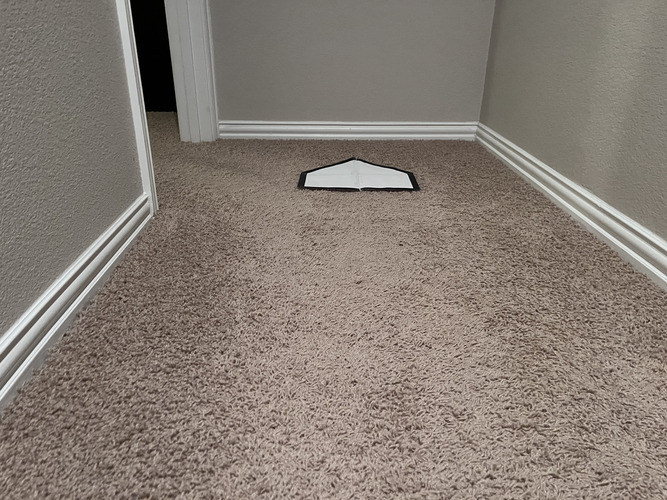homeplate: (296, 158, 419, 191)
